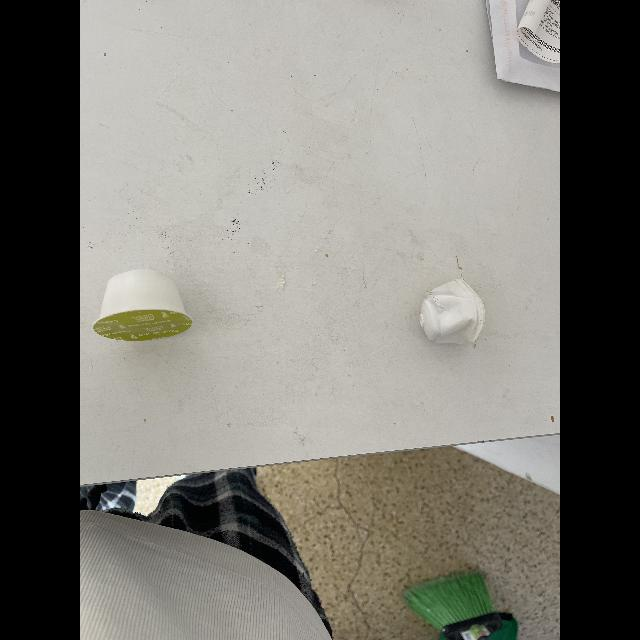damaged_capsule: (414, 280, 494, 358)
intact_capsule: (90, 262, 198, 350)
